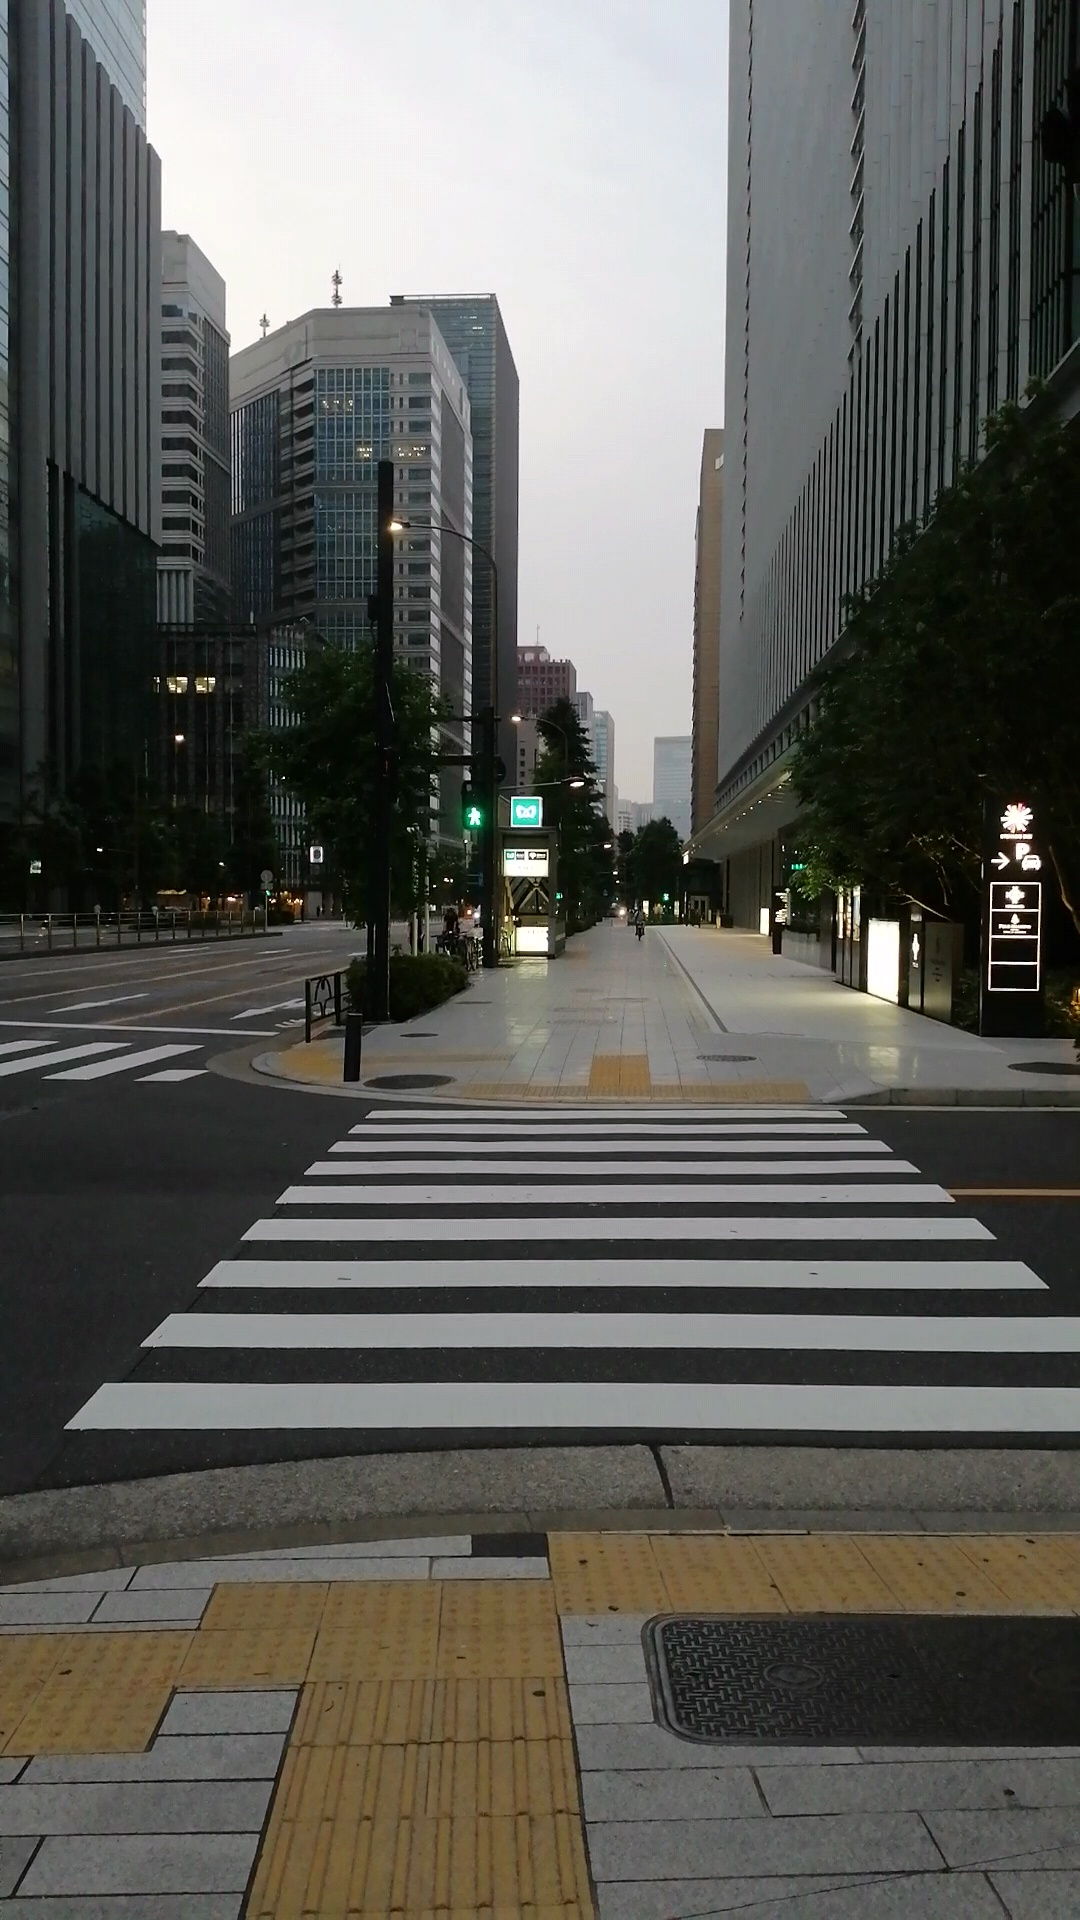green: (460, 779, 487, 831)
